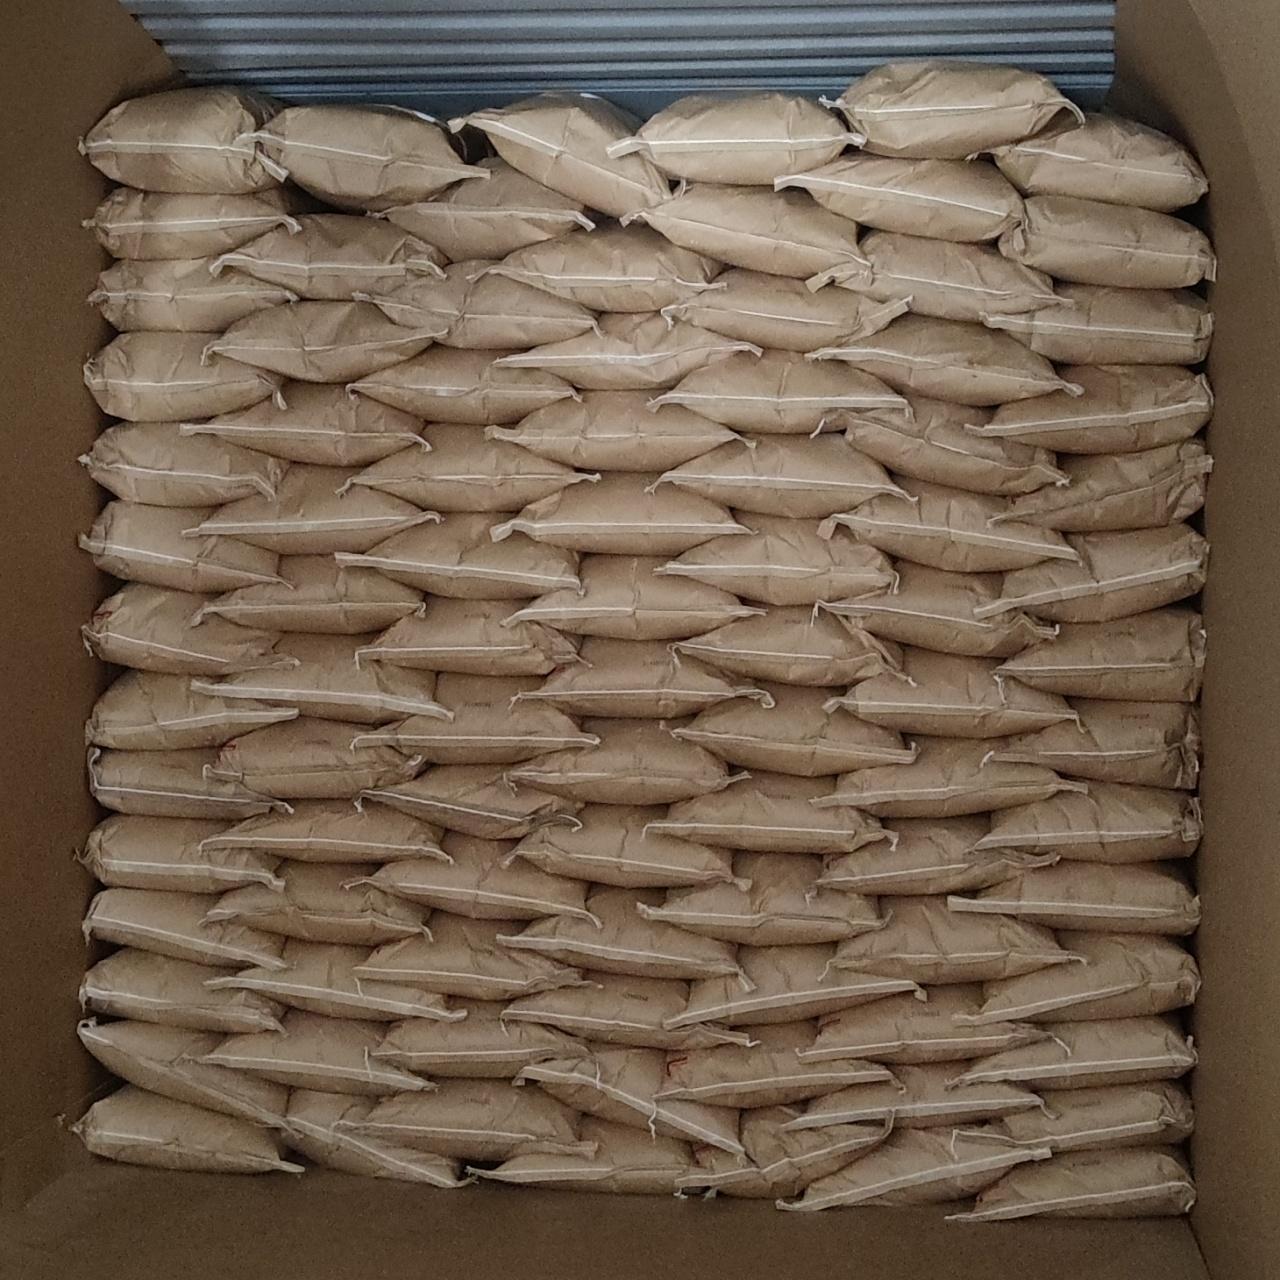sack: (518, 1042, 744, 1156), (458, 96, 672, 214), (828, 60, 1080, 158), (808, 314, 1078, 404), (250, 106, 478, 210), (822, 478, 1076, 570), (608, 92, 862, 182), (806, 230, 1060, 320), (80, 1018, 286, 1128), (820, 560, 1054, 656), (370, 160, 592, 260), (622, 184, 856, 278), (500, 886, 734, 980), (982, 114, 1206, 212), (840, 396, 1064, 494), (780, 1128, 1046, 1210), (642, 852, 884, 942), (200, 634, 446, 722), (834, 896, 1084, 982), (346, 424, 596, 510), (826, 646, 1070, 734), (670, 684, 908, 774), (812, 736, 1084, 814), (662, 512, 892, 604), (348, 832, 592, 918), (992, 522, 1206, 620), (208, 938, 462, 1020), (194, 464, 436, 550), (82, 88, 286, 190), (776, 154, 1022, 238), (972, 366, 1212, 452), (354, 674, 594, 760), (336, 514, 580, 598), (978, 930, 1198, 1022), (650, 350, 902, 430), (492, 474, 742, 554), (668, 944, 918, 1024), (354, 264, 592, 348), (664, 268, 906, 350), (524, 638, 772, 718), (70, 1086, 300, 1172), (1000, 194, 1214, 286), (186, 380, 424, 462), (676, 1106, 888, 1198), (488, 226, 720, 310), (998, 606, 1204, 700), (650, 772, 892, 852), (518, 556, 754, 638), (488, 392, 736, 470), (662, 1020, 886, 1106), (498, 314, 758, 388), (816, 814, 1056, 894), (664, 434, 898, 516), (512, 804, 746, 886), (204, 1010, 432, 1094), (362, 912, 584, 998), (996, 440, 1208, 530), (202, 300, 434, 382), (214, 216, 444, 298), (802, 986, 1046, 1062), (82, 584, 288, 674), (948, 860, 1198, 934), (988, 698, 1198, 786), (676, 606, 906, 686), (978, 780, 1202, 862), (504, 972, 752, 1046), (986, 284, 1212, 364), (78, 502, 282, 590), (514, 718, 732, 800), (282, 1090, 466, 1186), (950, 1148, 1194, 1220), (368, 1080, 582, 1162), (214, 862, 430, 942), (350, 346, 576, 422), (358, 596, 578, 674), (84, 334, 282, 420), (192, 556, 422, 630), (370, 998, 588, 1076), (80, 948, 286, 1030), (960, 1014, 1194, 1086), (216, 716, 424, 796), (80, 422, 286, 502), (466, 1118, 692, 1190), (86, 670, 294, 748), (360, 766, 582, 838), (84, 888, 286, 966), (792, 1062, 1038, 1126), (80, 814, 280, 892), (200, 800, 448, 862), (84, 186, 296, 258), (966, 1082, 1190, 1150), (90, 260, 294, 330), (88, 748, 290, 818)
